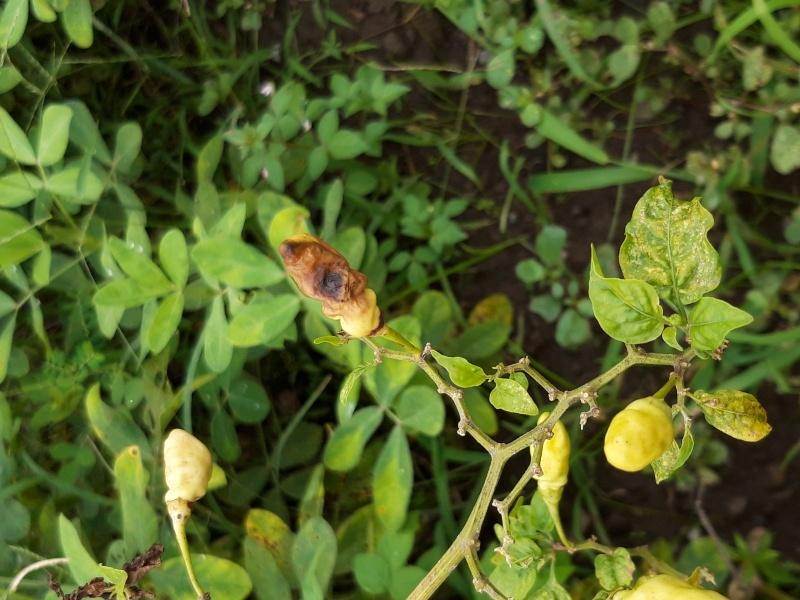antraknosa: (282, 234, 380, 338)
cabai_normal: (605, 399, 675, 470), (164, 429, 213, 505), (530, 412, 570, 484)
